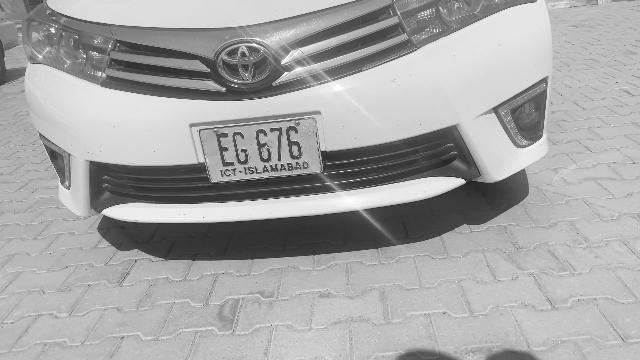Number: (212, 123, 305, 170)
